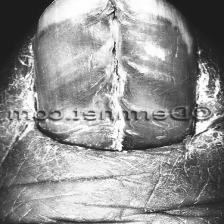Toxin: (32, 0, 200, 136)
